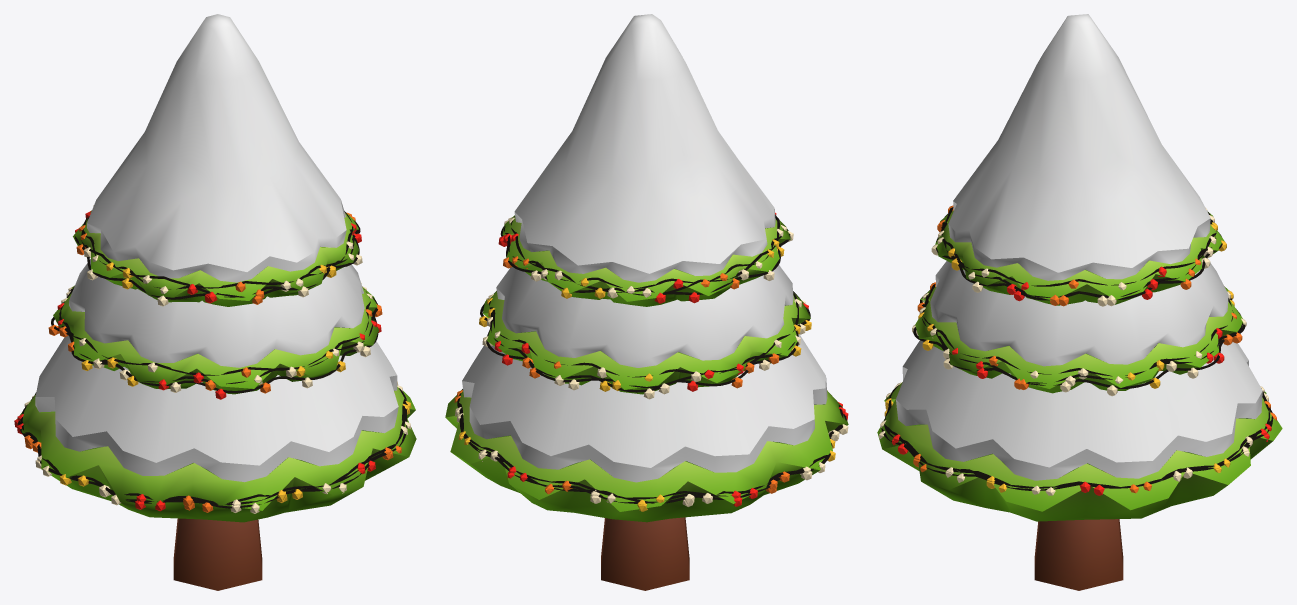
The model's file is SM_Pinheiro.fbx.
3 renders of one model, left to right at view 1: azimuth 30°, elevation 25°; view 2: azimuth 150°, elevation 25°; view 3: azimuth 270°, elevation 25°, orthographic.
Parts seen in each view (by area): view 1: SM_Pinheiro, Lampadas_C, Lampadas_A, Lampadas_B; view 2: SM_Pinheiro, Lampadas_B, Lampadas_C, Lampadas_A; view 3: SM_Pinheiro, Lampadas_A, Lampadas_B, Lampadas_C.
Boxes of the visible parts, <box> form: SM_Pinheiro: <box>16,14,416,590</box>; Lampadas_C: <box>17,205,411,513</box>; Lampadas_A: <box>14,212,408,512</box>; Lampadas_B: <box>17,211,409,510</box>; SM_Pinheiro: <box>445,14,848,590</box>; Lampadas_B: <box>455,212,845,506</box>; Lampadas_C: <box>454,216,848,503</box>; Lampadas_A: <box>456,215,848,511</box>; SM_Pinheiro: <box>877,14,1282,590</box>; Lampadas_A: <box>880,207,1276,494</box>; Lampadas_B: <box>880,205,1276,494</box>; Lampadas_C: <box>879,213,1271,495</box>.
Size of the model in its own units: 357 by 536 by 356.
